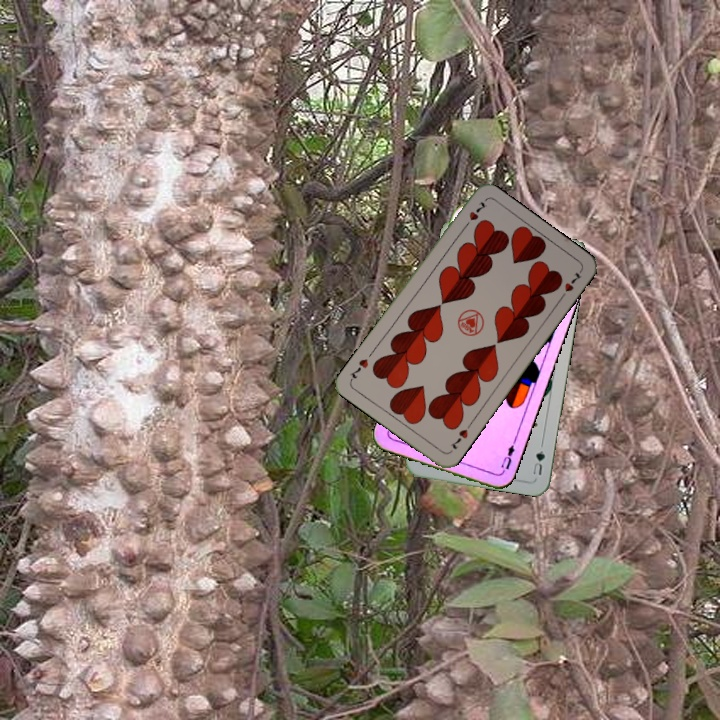EU: (496, 437, 518, 476)
GU: (529, 440, 547, 477)
H7: (459, 197, 489, 232), (446, 425, 471, 452)
